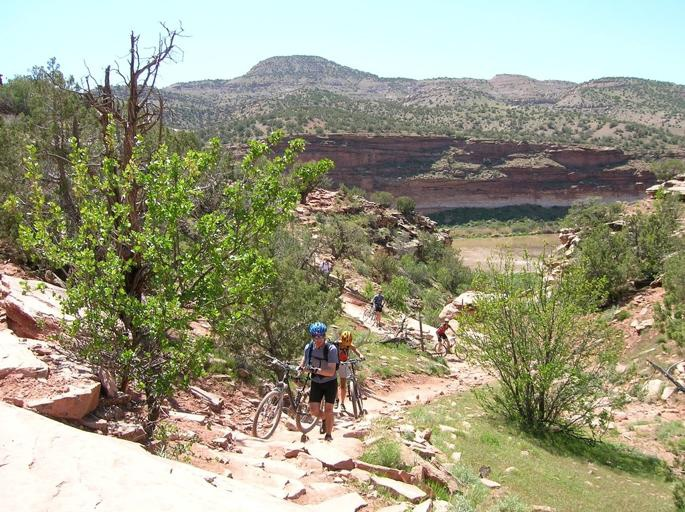non-vehicle: (252, 351, 323, 440), (334, 356, 366, 418), (433, 335, 467, 361), (362, 300, 384, 327)
